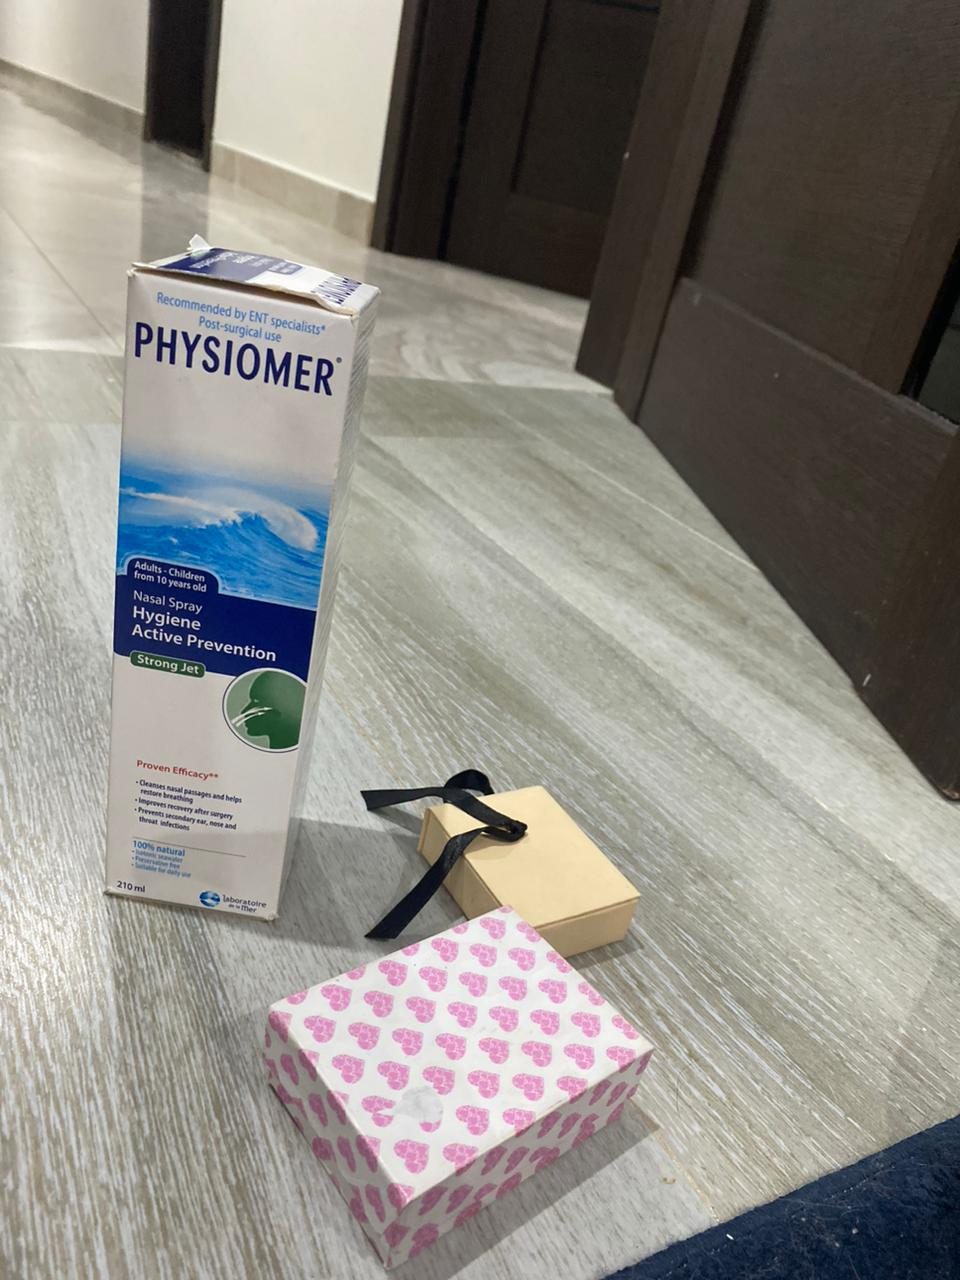Physiomer: (95, 234, 387, 931)
Pink Box: (256, 902, 658, 1274)
Yellow Box: (412, 781, 646, 959)
